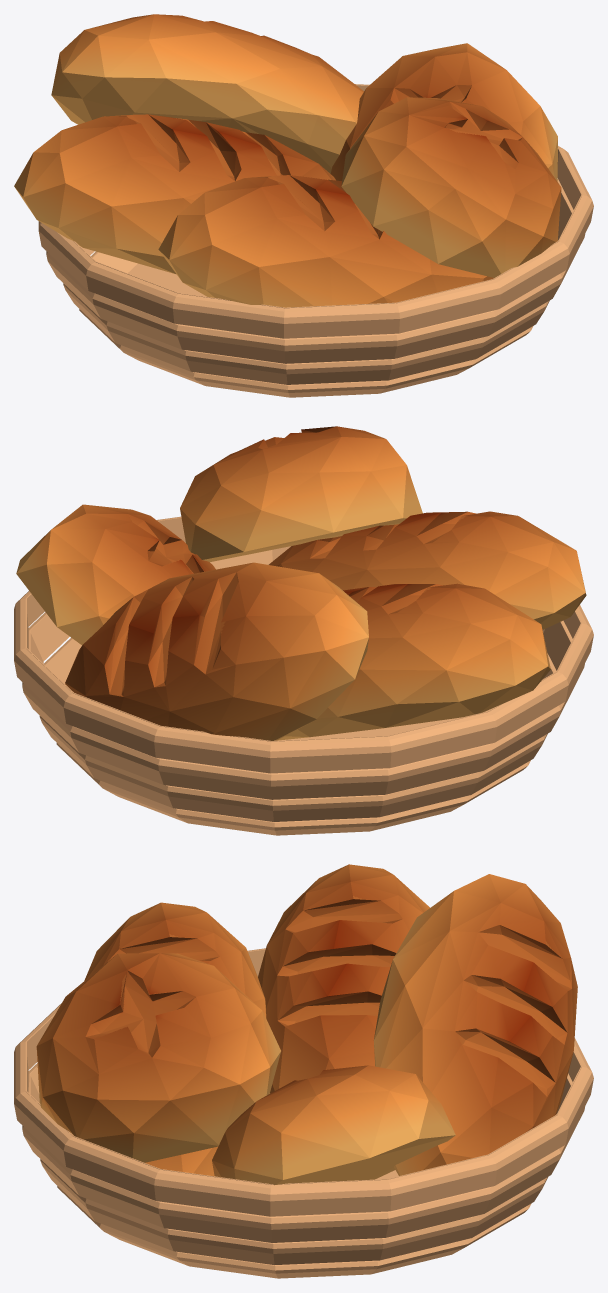
The model's file is Bread.fbx.
3 renders of one model, top to bottom at view 1: azimuth 30°, elevation 25°; view 2: azimuth 150°, elevation 25°; view 3: azimuth 270°, elevation 25°, orthographic. The views are drawn at different scales.
Visible parts, largest first — view 1: bread; view 2: bread; view 3: bread.
Part boxes in pixels (<box>): bread: <box>14,14,593,397</box>; bread: <box>14,426,593,835</box>; bread: <box>14,864,593,1278</box>.
Size of the model in its own units: 0.3504 by 0.1581 by 0.3335.
Materials: 3 (2 with a texture image).
